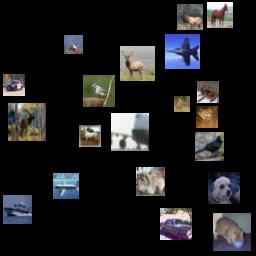airplane: (111, 113, 149, 151), (165, 34, 200, 69), (53, 173, 79, 199)
automobile: (160, 208, 192, 240), (3, 74, 25, 96)
bird: (83, 75, 115, 107), (195, 132, 224, 161)
cat: (213, 213, 251, 251)
deer: (8, 103, 46, 141), (120, 46, 155, 81), (177, 4, 203, 30), (64, 35, 83, 54), (174, 96, 190, 112)
dog: (208, 172, 240, 204), (136, 167, 165, 196), (197, 81, 219, 103)
frog: (196, 106, 218, 128)
ship: (3, 195, 32, 224)
